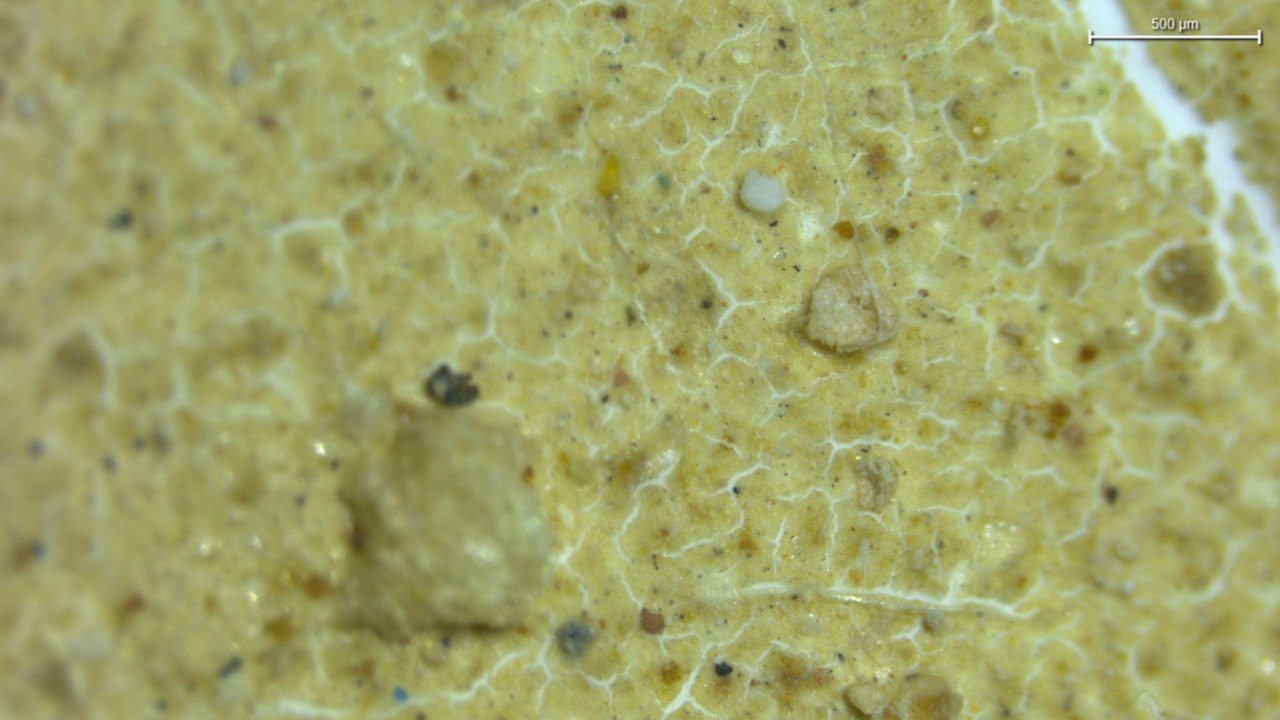microplastic_fragment: (338, 402, 543, 643), (805, 266, 901, 349), (740, 170, 789, 216), (848, 683, 887, 717)
